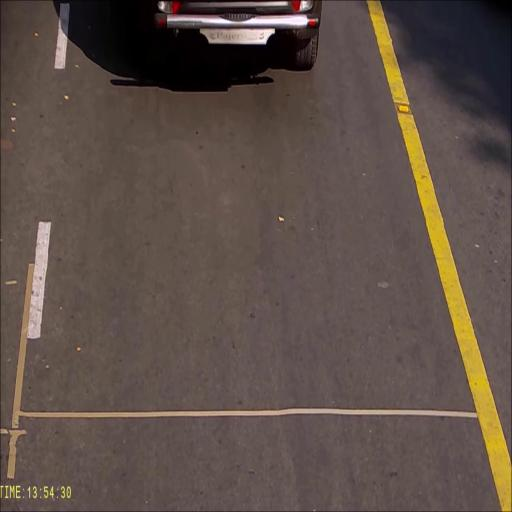Vehicle: (155, 0, 322, 72)
